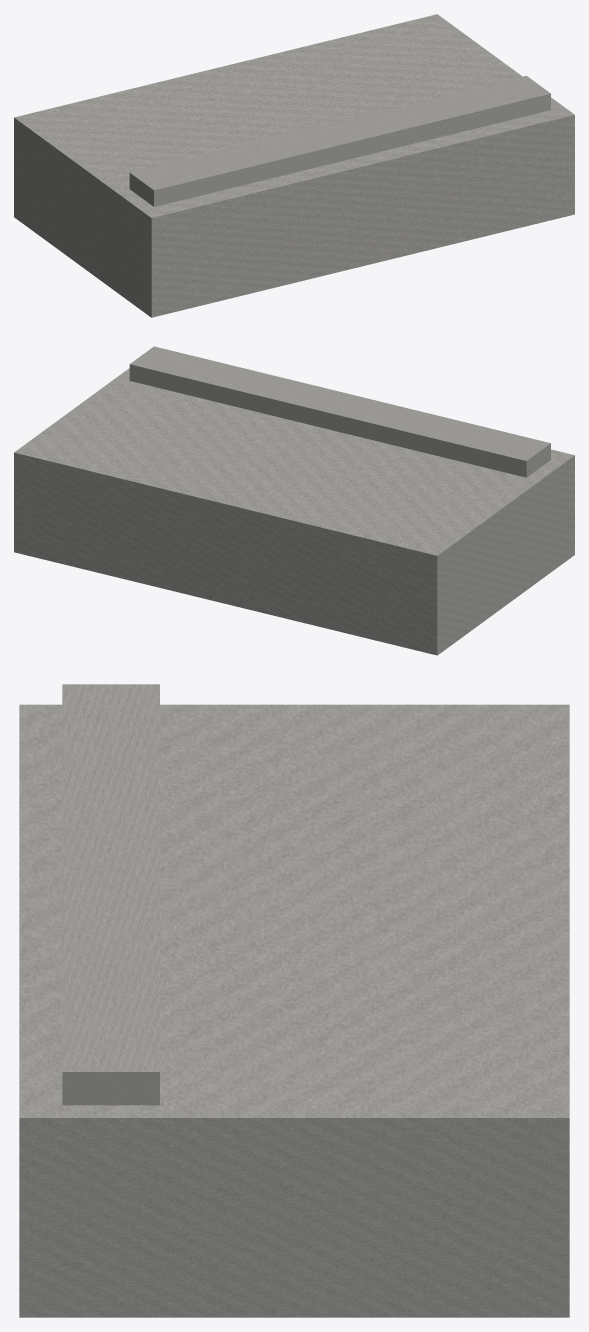
Rendered from andean-terraces-and-stone-village-stone-step-block-08204775__38248.glb.
The picture shows the model from 3 angles, top to bottom: view 1: azimuth 30°, elevation 25°; view 2: azimuth 150°, elevation 25°; view 3: azimuth 270°, elevation 25°; orthographic projection. The views are drawn at different scales.
Parts seen in each view (by area): view 1: stone-step-block-stone; view 2: stone-step-block-stone; view 3: stone-step-block-stone.
Boxes of the visible parts, x1,y1,x2,y2 form: stone-step-block-stone: [14, 14, 574, 317]; stone-step-block-stone: [14, 346, 574, 655]; stone-step-block-stone: [19, 684, 569, 1317].
Size of the model in its own units: 1.6 by 0.42 by 0.8999.
1 material, 1 textured.
